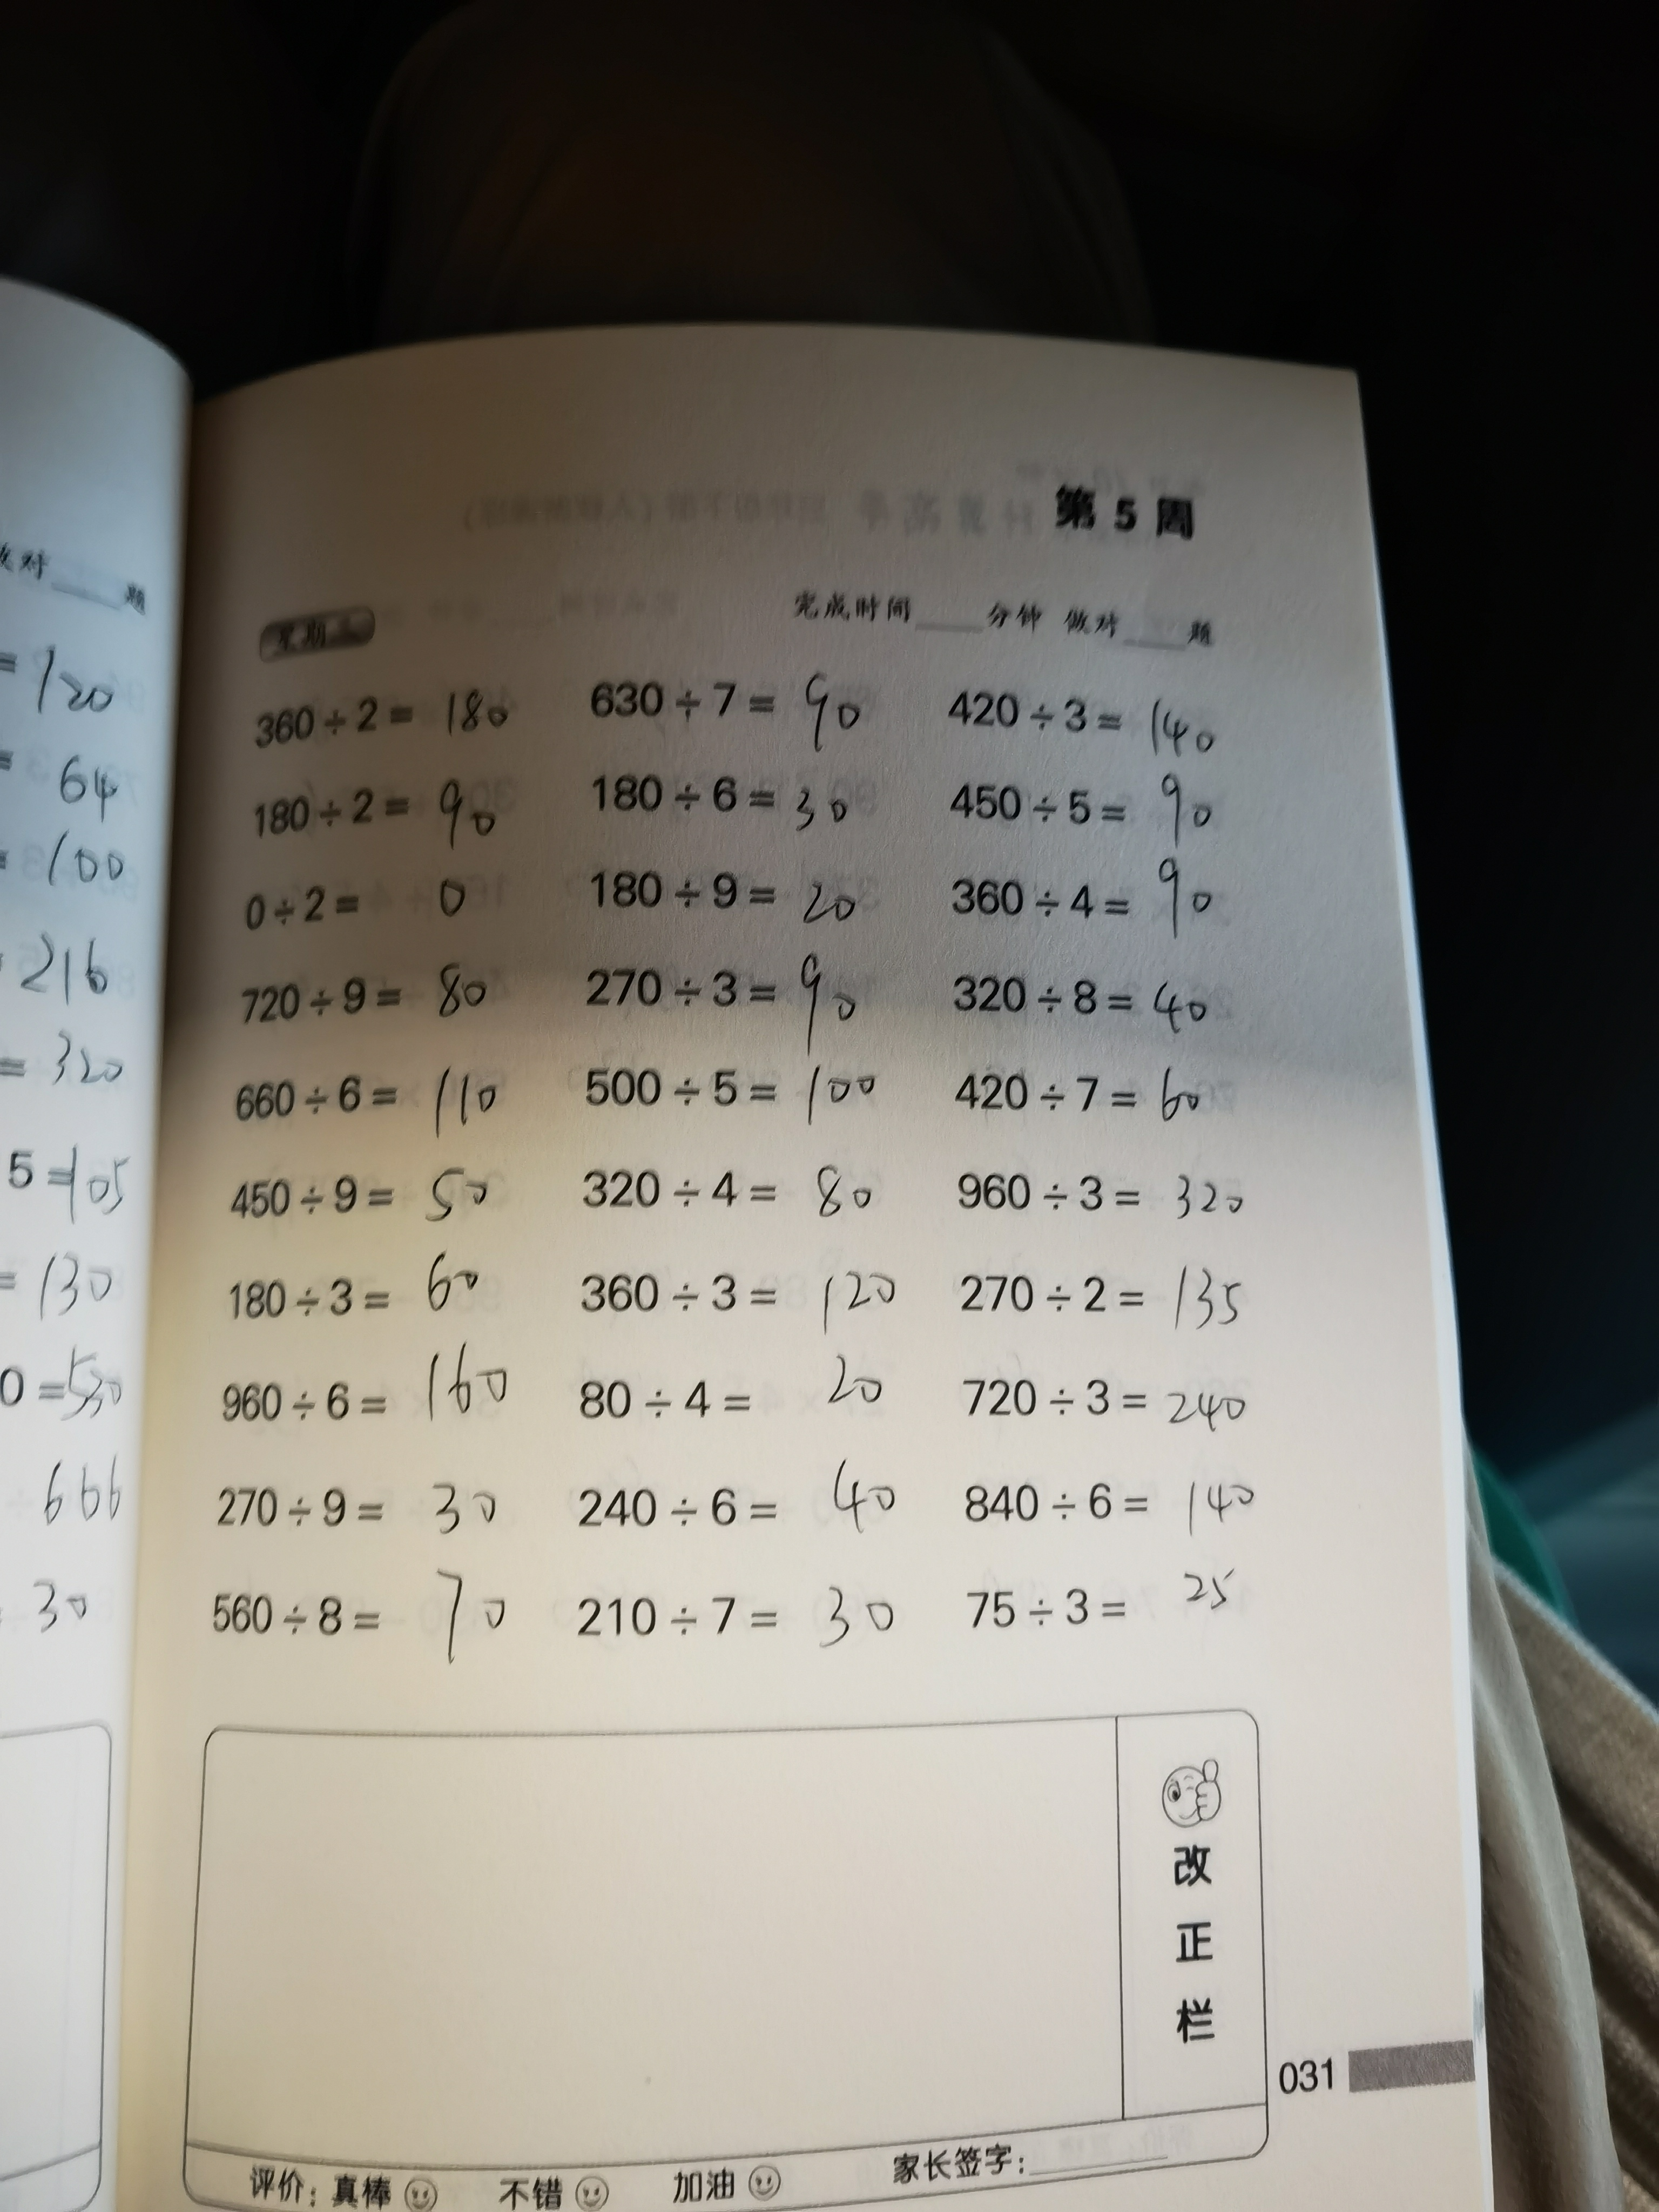equation: (551, 1035, 897, 1130), (953, 1447, 1300, 1541), (929, 1352, 1263, 1442), (953, 1554, 1269, 1649), (152, 1566, 512, 1649), (558, 1573, 922, 1655), (575, 834, 873, 934), (943, 664, 1234, 765), (573, 1254, 903, 1343), (225, 1043, 511, 1144), (577, 1461, 899, 1550), (953, 1057, 1284, 1143), (565, 669, 873, 759), (943, 866, 1284, 946), (572, 1343, 897, 1426), (202, 1346, 521, 1428), (591, 953, 880, 1038), (941, 1155, 1295, 1224), (228, 1454, 504, 1543), (582, 1151, 880, 1230), (953, 1252, 1281, 1320), (951, 958, 1248, 1033), (951, 763, 1244, 836), (579, 765, 870, 838), (230, 786, 526, 853), (193, 1258, 502, 1320), (237, 685, 530, 747), (237, 960, 507, 1024), (221, 1169, 493, 1228), (247, 878, 488, 930)
